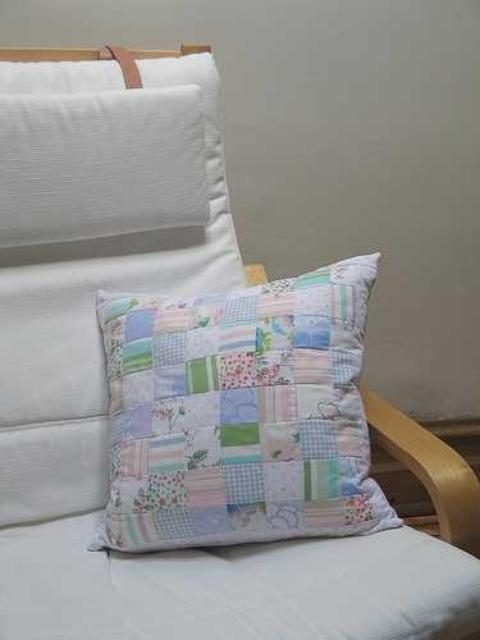pillow: (85, 250, 402, 554)
